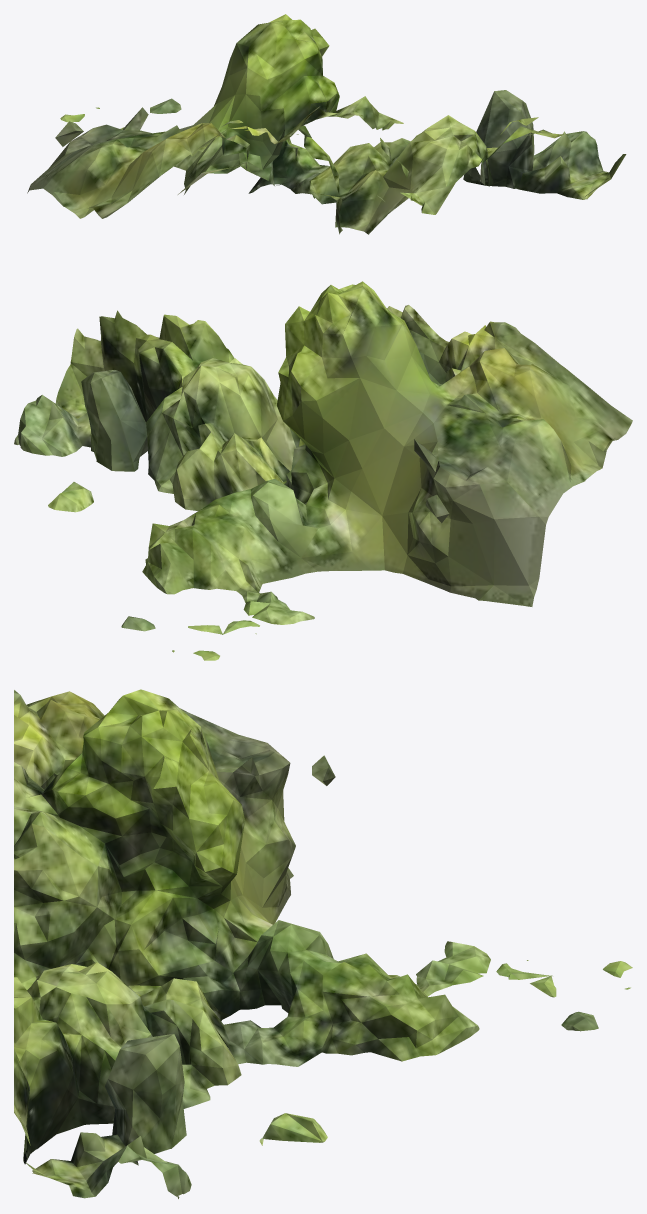
3 views of the same model, one above another, from view 1: azimuth 30°, elevation 25°; view 2: azimuth 150°, elevation 25°; view 3: azimuth 270°, elevation 25° (orthographic). The views are drawn at different scales.
Size of the model in its own units: 52.22 by 20.49 by 38.65.
Materials: 2 (2 with a texture image).
